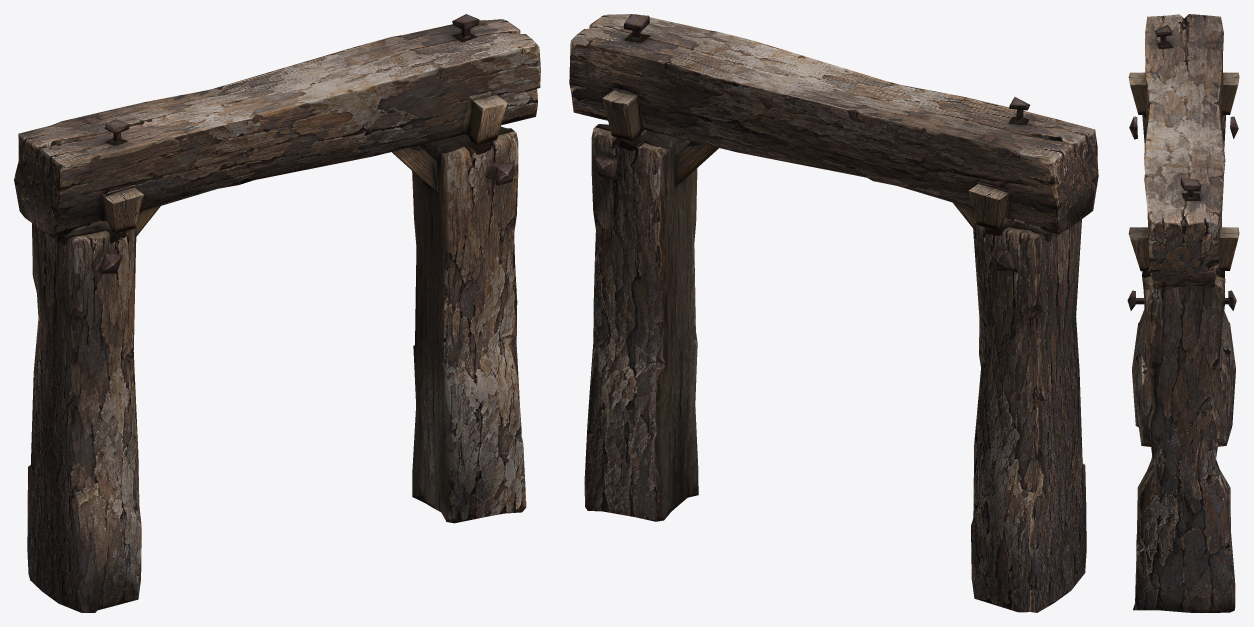
The model's file is dungeon_mine_timber.glb.
3 renders of one model, left to right at view 1: azimuth 30°, elevation 25°; view 2: azimuth 150°, elevation 25°; view 3: azimuth 270°, elevation 25°, orthographic. The views are drawn at different scales.
Visible parts, largest first — view 1: mine_timber; view 2: mine_timber; view 3: mine_timber.
Boxes of the visible parts, bbox=[...] form: mine_timber: bbox=[14, 14, 540, 612]; mine_timber: bbox=[569, 14, 1098, 612]; mine_timber: bbox=[1127, 14, 1239, 612].
Bounding box in the file's own units: 0.9985 × 0.9341 × 0.2246.
Materials: 1 (1 with a texture image).
